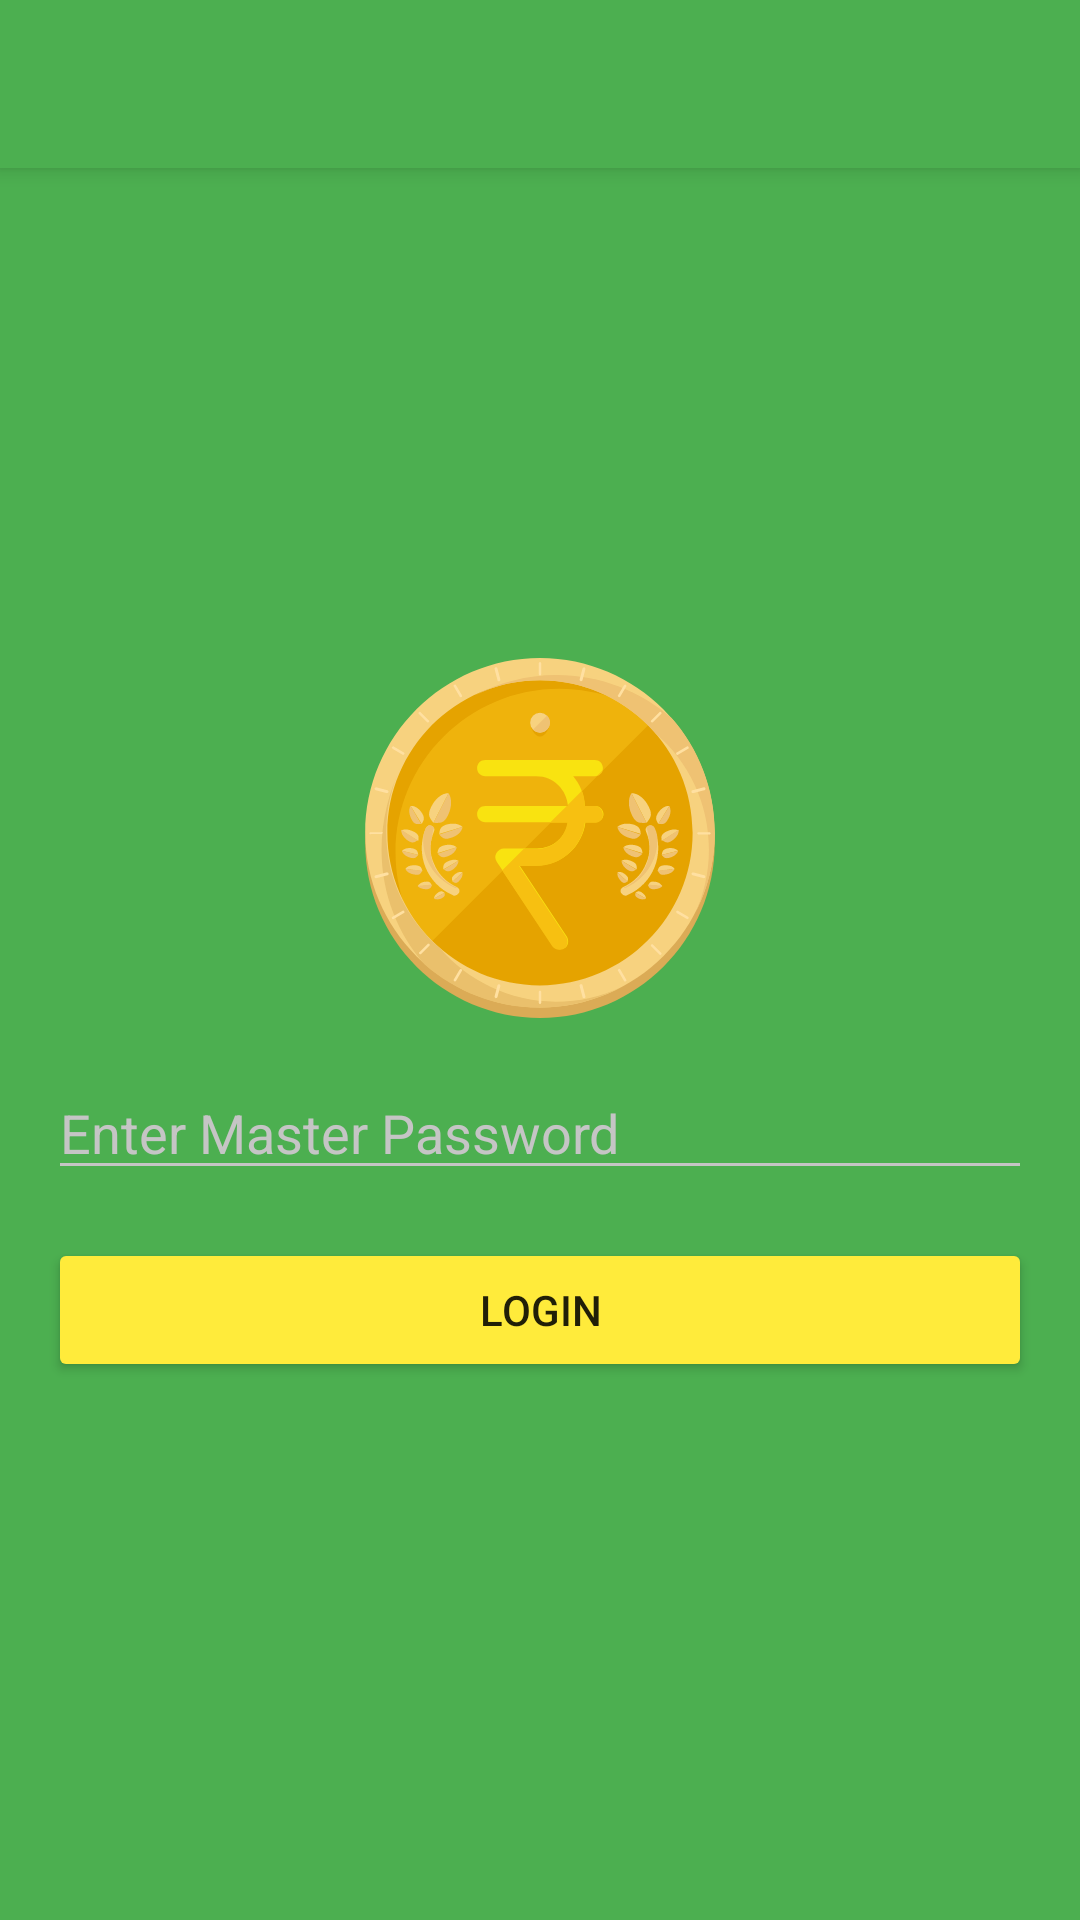

Icons on this 1080px×1920px Android screen, each with the point to tap as point (x, y):
rupee for login: point (540, 838)
